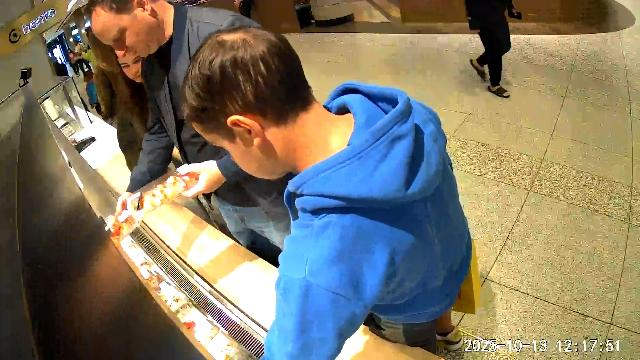sushi-box: (119, 162, 200, 231), (104, 212, 129, 245)
